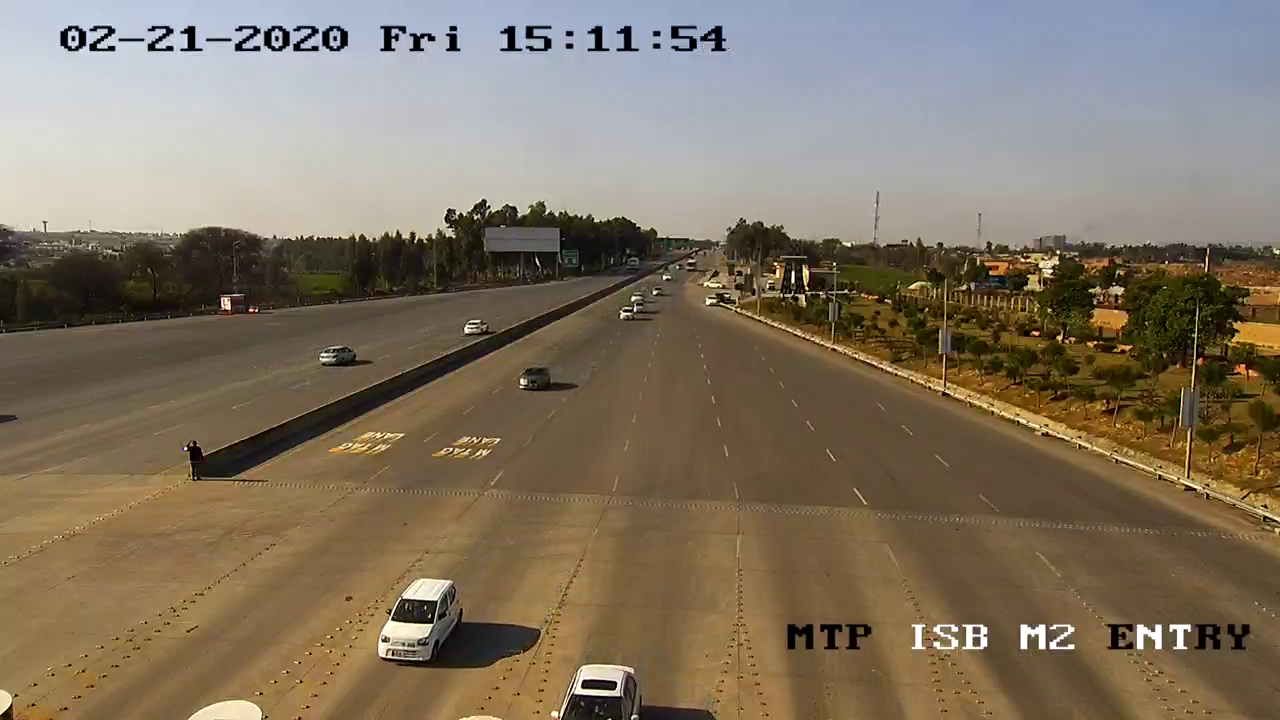f1: (367, 571, 472, 671)
